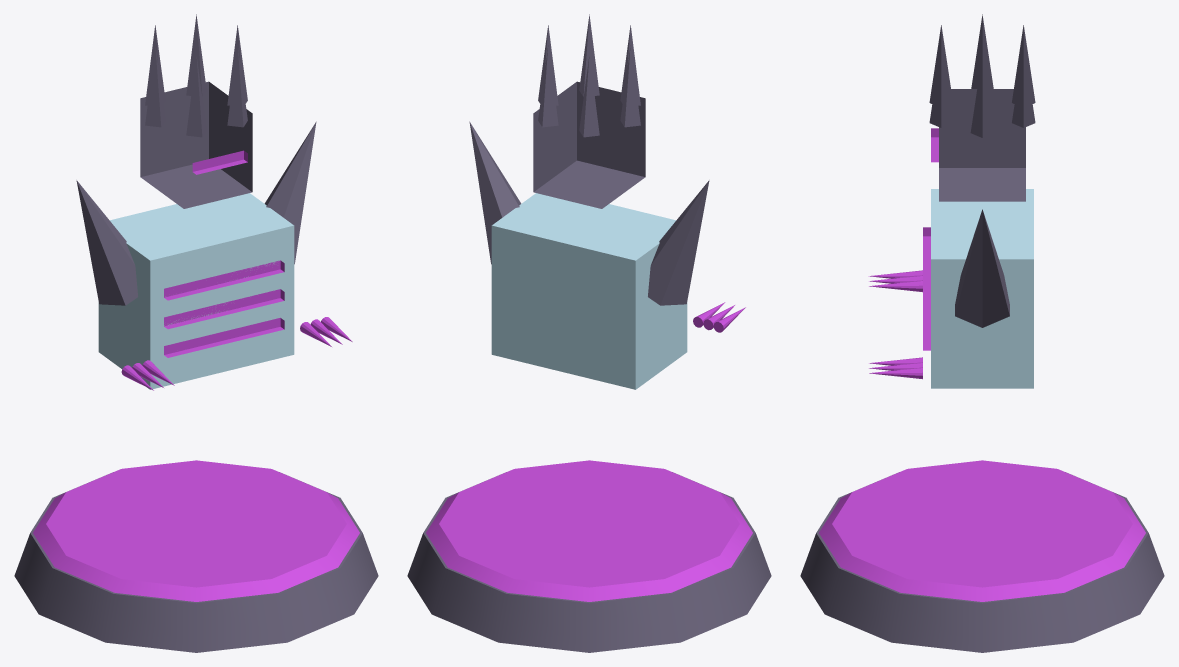
The model's file is king.glb.
3 renders of one model, left to right at view 1: azimuth 30°, elevation 25°; view 2: azimuth 150°, elevation 25°; view 3: azimuth 270°, elevation 25°, orthographic.
Parts seen in each view (by area): view 1: king; view 2: king; view 3: king.
Boxes of the visible parts, left/top/right/bottom form: king: left=14, top=14, right=378, bottom=652; king: left=407, top=14, right=771, bottom=652; king: left=800, top=14, right=1164, bottom=652.
Size of the model in its own units: 0.92 by 1.51 by 0.92.
